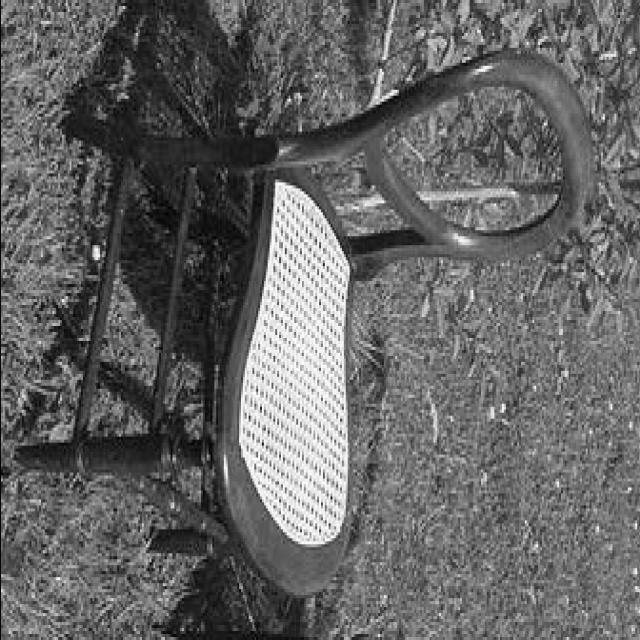chair: (19, 48, 592, 594)
